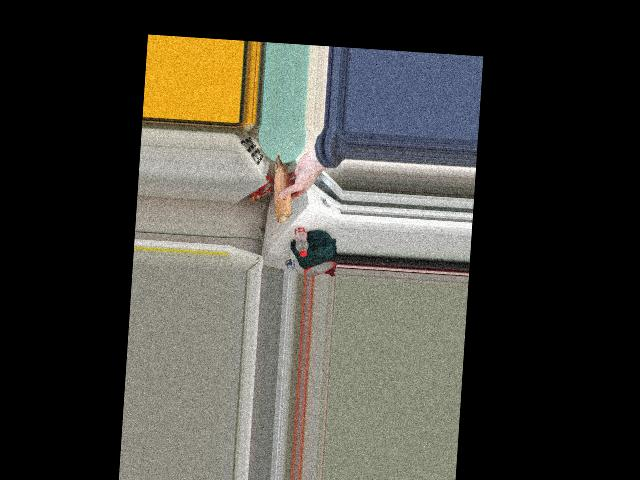sweet_potato: (272, 155, 294, 219)
